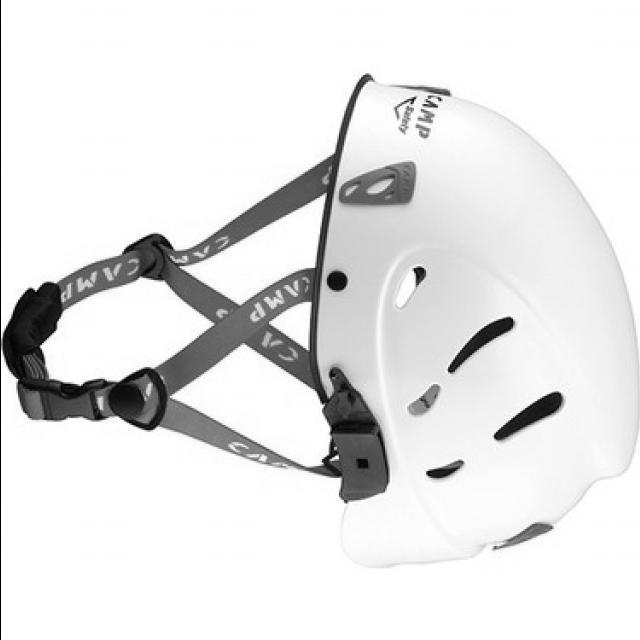safety_helmet: (305, 79, 640, 570)
